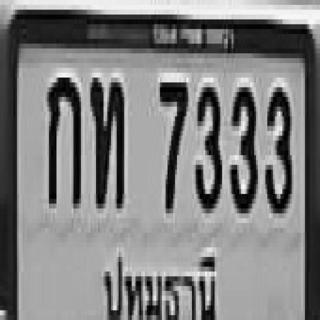A01: (45, 73, 81, 210)
A23: (88, 73, 126, 211)
N03: (228, 82, 258, 216), (194, 82, 223, 213), (264, 82, 292, 214)
N07: (158, 78, 186, 208)
P38: (96, 242, 220, 320)
